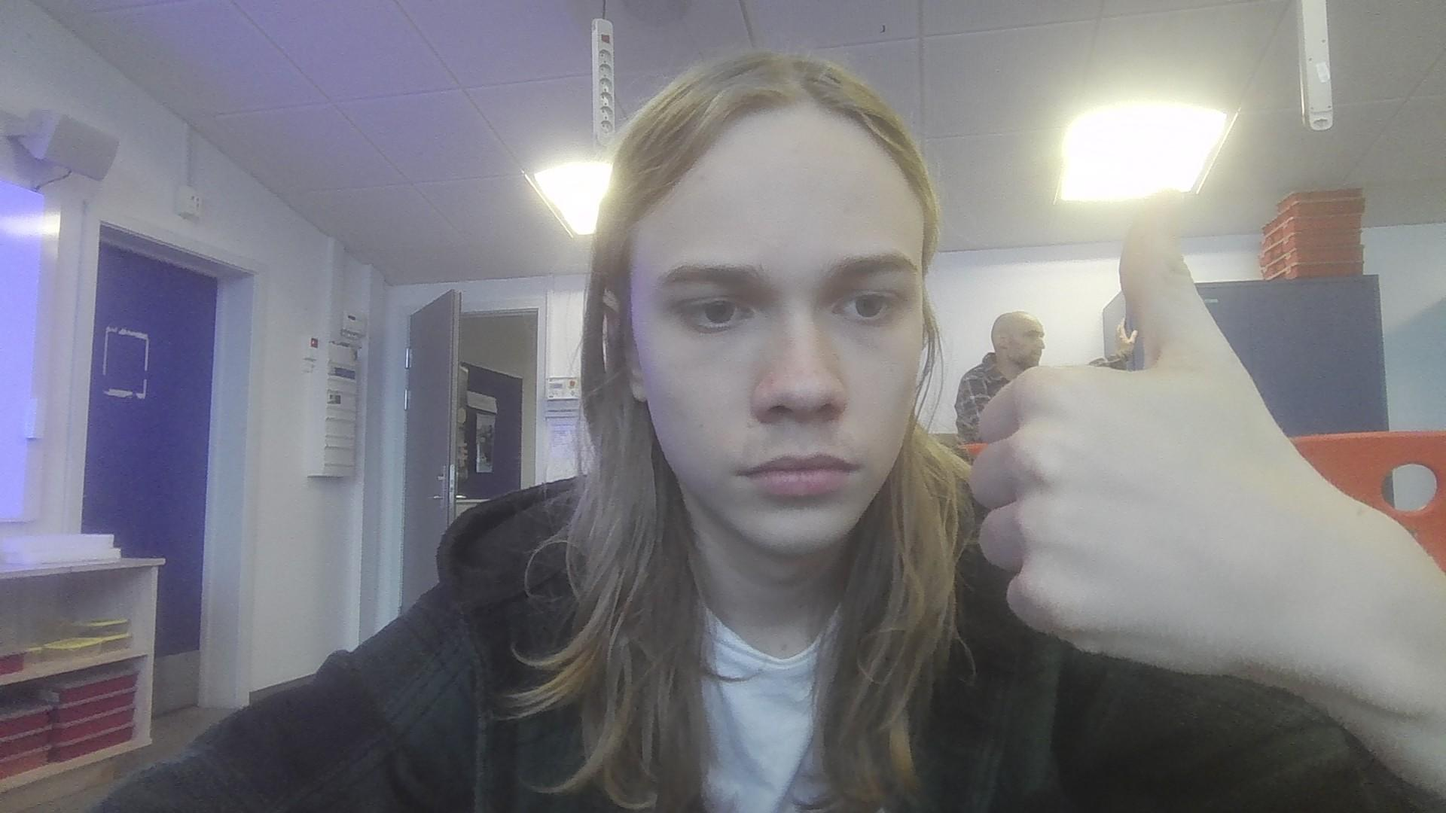thumbs up: (973, 178, 1292, 682)
